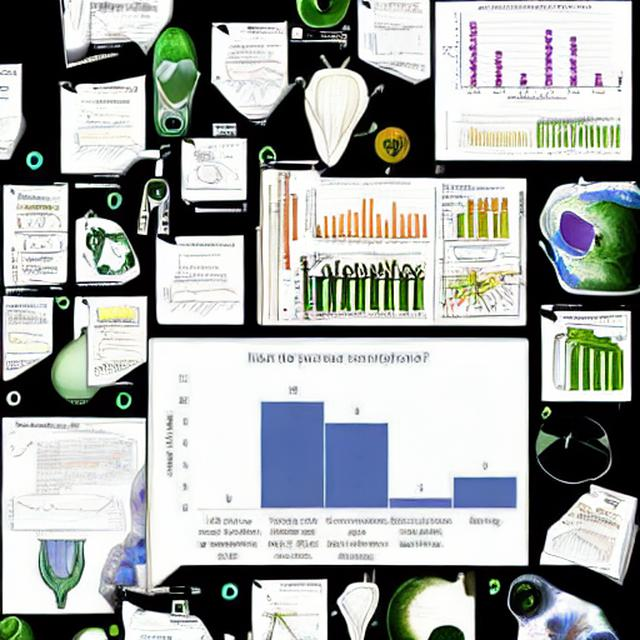Graph: (152, 344, 524, 563), (436, 3, 615, 104), (302, 179, 431, 250), (160, 273, 241, 319), (4, 492, 78, 537), (366, 23, 429, 61), (71, 125, 131, 160), (463, 120, 527, 152)
